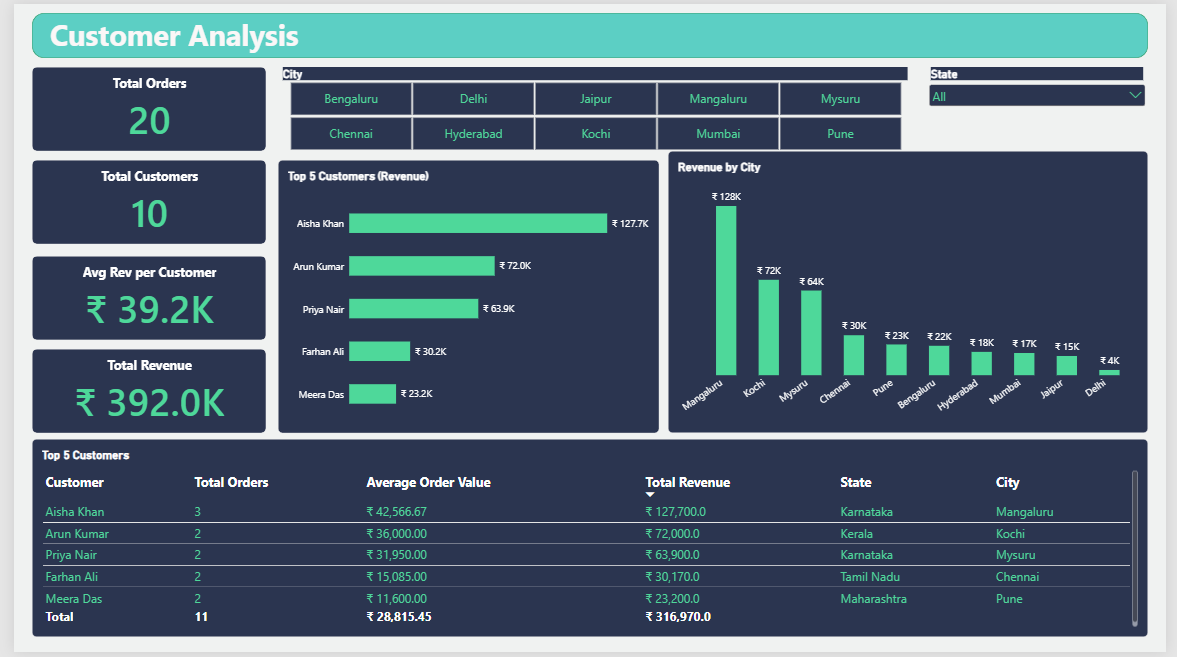

The dashboard page shown, as its layout file describes it:
{"tool":"powerbi","page":{"name":"Customer Analysis","canvas":[1920,1080],"ordinal":2},"visuals":[{"type":"cardVisual","fields":{"Data":["public order_items.Total Revenue"]},"box":[30,575,390,140],"z":0},{"type":"cardVisual","fields":{"Data":["public orders.Total Orders"]},"box":[30,105,390,140],"z":1000},{"type":"cardVisual","fields":{"Data":["public customers.Total Customers"]},"box":[30,260,390,140],"z":2000},{"type":"cardVisual","fields":{"Data":["public customers.Avg Revenue per Customer"]},"box":[30,420,390,140],"z":3000},{"type":"barChart","title":"Top 5 Customers (Revenue)","fields":{"Category":["public customers.customer_name"],"Y":["public order_items.Total Revenue"]},"box":[440,260,635,455],"z":4000},{"type":"columnChart","title":"Revenue by City","fields":{"Category":["public customers.city"],"Y":["public order_items.Total Revenue"]},"box":[1090,245,800,470],"z":5000},{"type":"tableEx","title":"Top 5 Customers","fields":{"Values":["public customers.customer_name","public orders.Total Orders","public orders.Average Order Value","public order_items.Total Revenue","public customers.state","public customers.city"]},"box":[30,725,1860,330],"z":6000},{"type":"slicer","fields":{"Values":["public customers.city"]},"box":[440,105,1057.5,140],"z":7000},{"type":"slicer","fields":{"Values":["public customers.state"]},"box":[1520,105,370,90],"z":8000},{"type":"shape","box":[30,15,1860,75],"z":9000},{"type":"textbox","box":[60,17.5,580,72.5],"z":10000}]}

Visuals, with their boxes in screenshot pixels (x1, y1, x2, y2), scaled from the page's 1920x1080 canvas onto the 1177x657 screenshot:
cardVisual - public order_items.Total Revenue: <box>18,350,257,435</box>
cardVisual - public orders.Total Orders: <box>18,64,257,149</box>
cardVisual - public customers.Total Customers: <box>18,158,257,243</box>
cardVisual - public customers.Avg Revenue per Customer: <box>18,255,257,341</box>
"Top 5 Customers (Revenue)" barChart: <box>270,158,659,435</box>
"Revenue by City" columnChart: <box>668,149,1159,435</box>
"Top 5 Customers" tableEx: <box>18,441,1159,642</box>
slicer - public customers.city: <box>270,64,918,149</box>
slicer - public customers.state: <box>932,64,1159,119</box>
shape: <box>18,9,1159,55</box>
textbox: <box>37,11,392,55</box>
